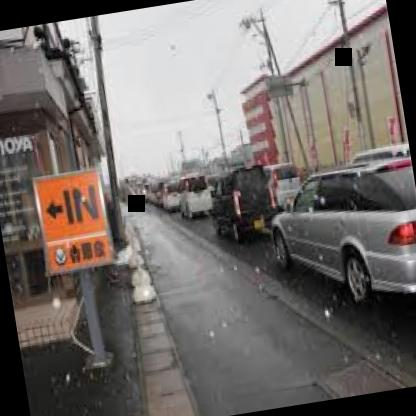car: (259, 146, 416, 352), (202, 154, 284, 250), (170, 160, 236, 218)
